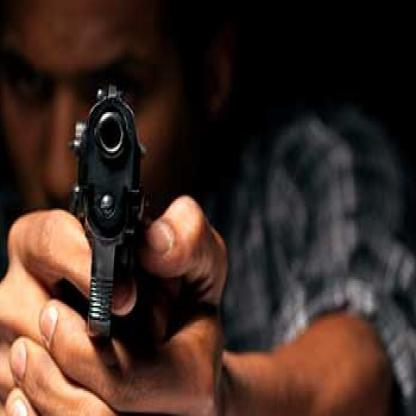gun: (64, 84, 154, 350)
